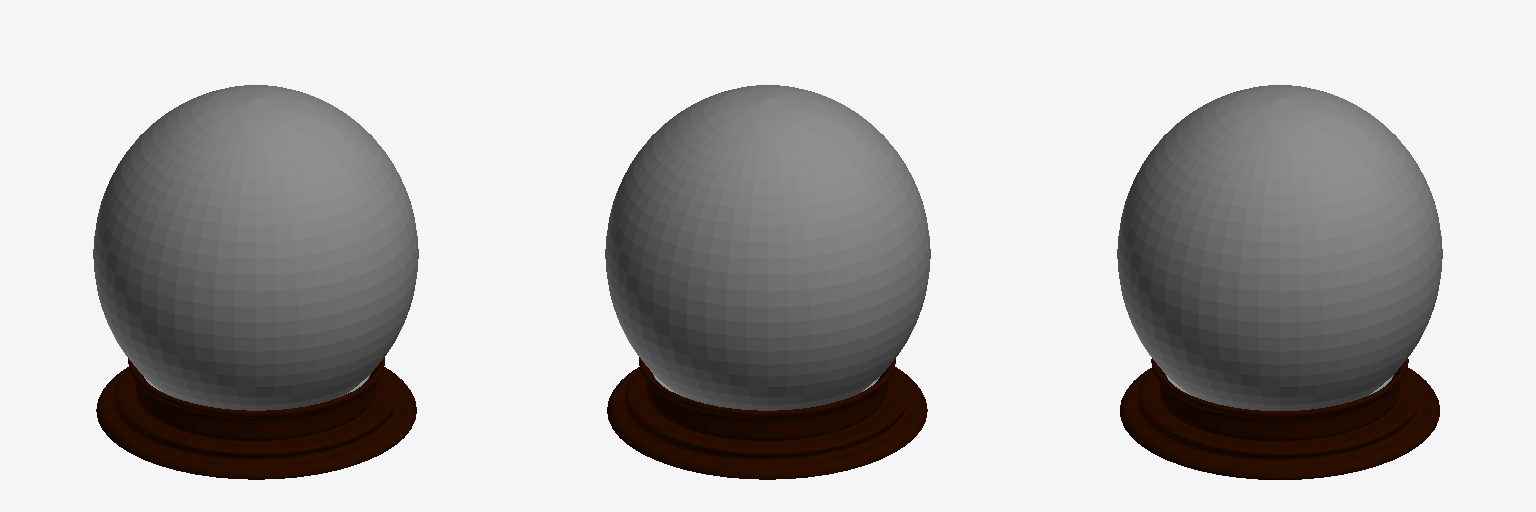
The model's file is snowglobe_t.obj.
3 views of the same model, side by side, from view 1: azimuth 30°, elevation 25°; view 2: azimuth 150°, elevation 25°; view 3: azimuth 270°, elevation 25° (orthographic).
Parts seen in each view (by area): view 1: snowglobe2, snowglobe.001; view 2: snowglobe2, snowglobe.001; view 3: snowglobe2, snowglobe.001.
Boxes of the visible parts, x1,y1,x2,y2 form: snowglobe2: [93, 85, 418, 410]; snowglobe.001: [96, 357, 416, 479]; snowglobe2: [605, 85, 930, 410]; snowglobe.001: [607, 357, 927, 479]; snowglobe2: [1117, 85, 1442, 410]; snowglobe.001: [1120, 358, 1439, 479].
Size of the model in its own units: 0.655 by 0.6975 by 0.655.